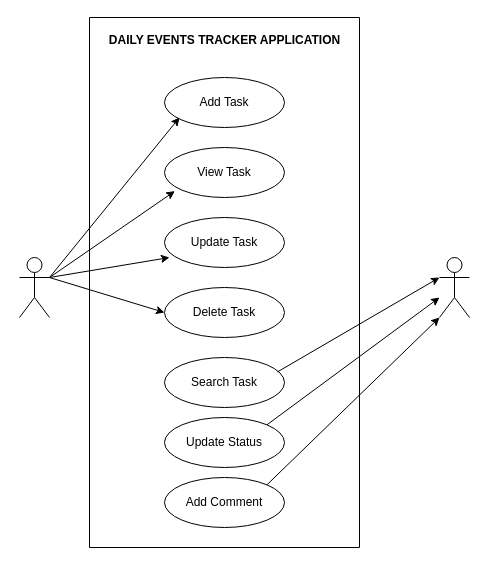
Image size: 487x565. Some labels were removed from this diagram. The centre of each missing label's shape, as x and y in pixels:
Admin: pixel 34 287
User: pixel 454 287
